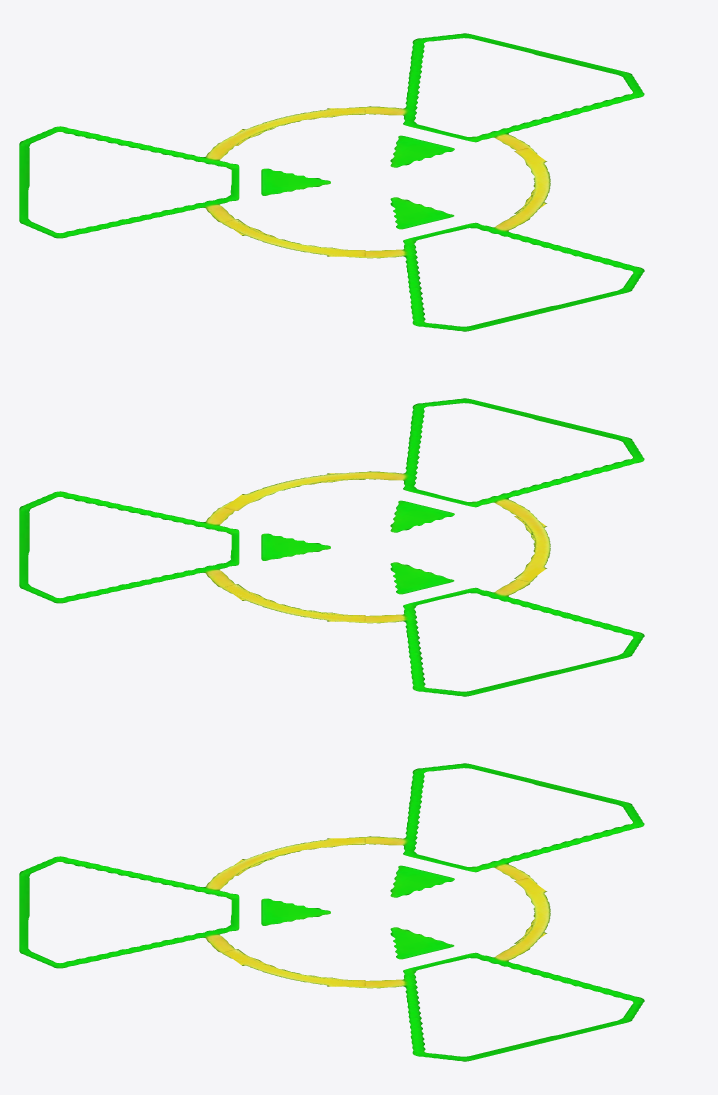
Rendered from nav1_hdtex.glb.
3 views of the same model, one above another, from view 1: azimuth 30°, elevation 25°; view 2: azimuth 150°, elevation 25°; view 3: azimuth 270°, elevation 25° (orthographic).
Parts seen in each view (by area): view 1: Plane01; view 2: Plane01; view 3: Plane01.
Part boxes in pixels (box(x1,y1,x2,y2)): Plane01: box(19, 33, 644, 331); Plane01: box(19, 398, 644, 696); Plane01: box(19, 763, 644, 1061).
Bounding box in the file's own units: 22.9 × 0 × 19.83.
1 material, 1 textured.
